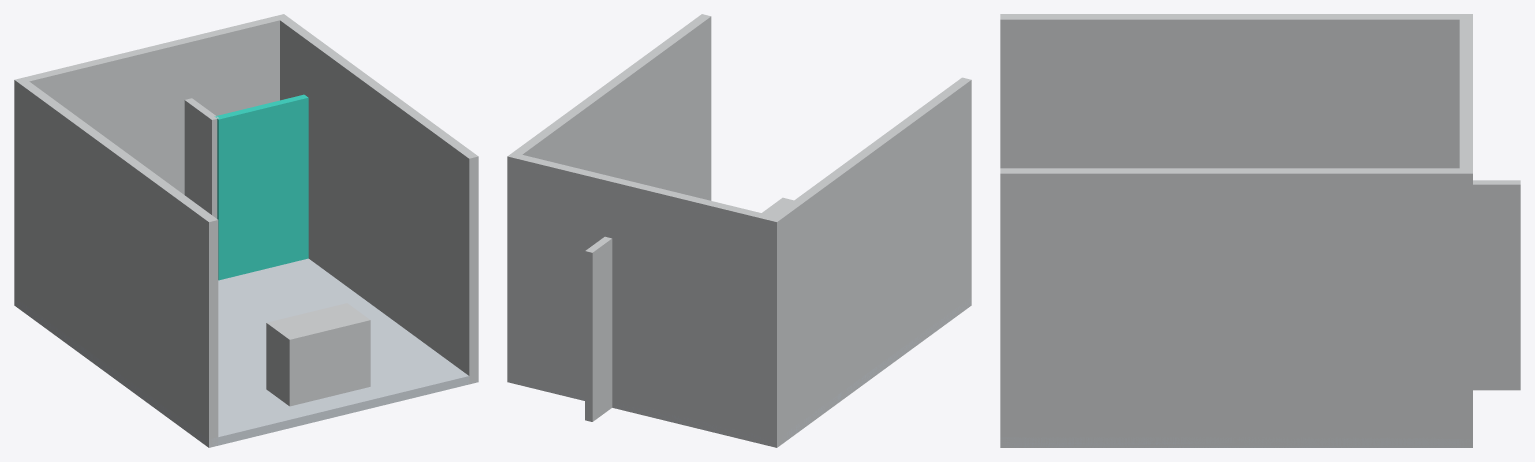
The picture shows the model from 3 angles, left to right: view 1: azimuth 30°, elevation 25°; view 2: azimuth 150°, elevation 25°; view 3: azimuth 270°, elevation 25°; orthographic projection. The views are drawn at different scales.
Parts seen in each view (by area): view 1: Exhibition Booth Concept; view 2: Exhibition Booth Concept; view 3: Exhibition Booth Concept.
Boxes of the visible parts, box(x1,y1,x2,y2) form: Exhibition Booth Concept: box(14, 14, 478, 447); Exhibition Booth Concept: box(507, 14, 971, 447); Exhibition Booth Concept: box(1000, 14, 1520, 447).
Size of the model in its own units: 4 by 3.2 by 5.51.
